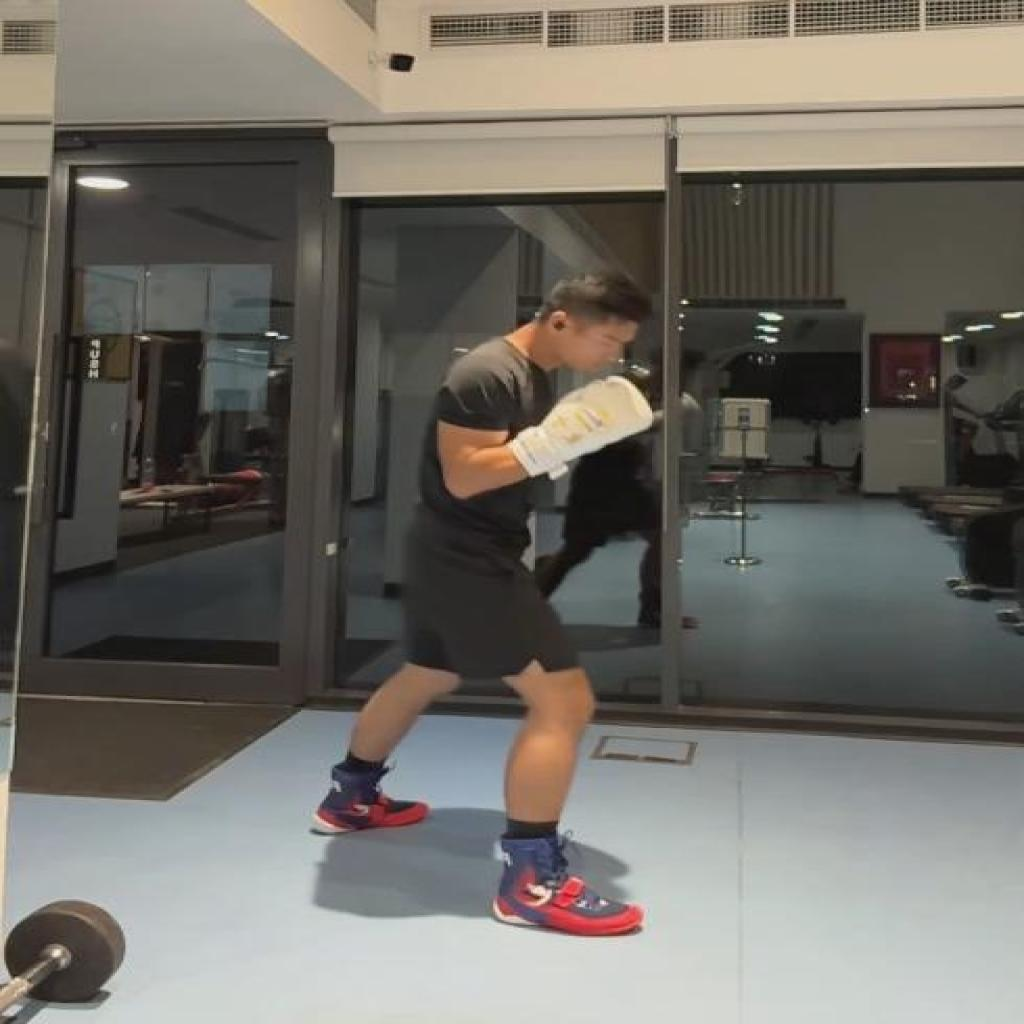no punch: (312, 274, 658, 939)
